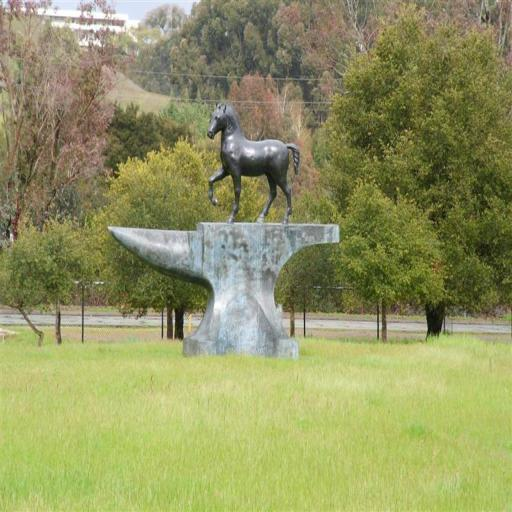horse: (208, 100, 302, 224)
